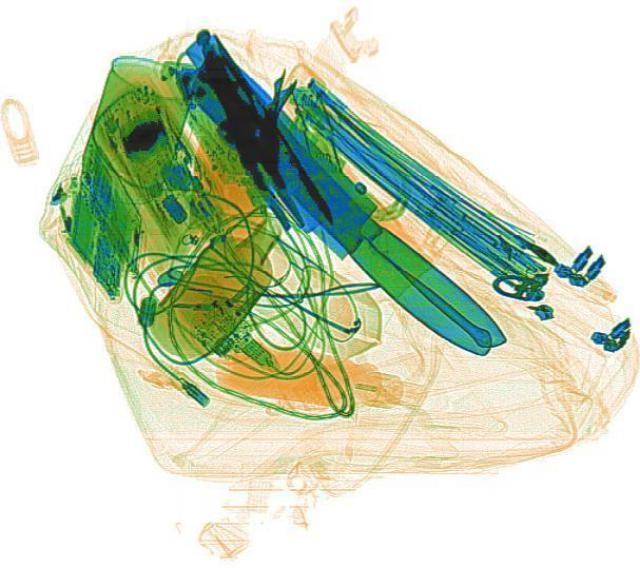Knife: (154, 51, 512, 370), (165, 49, 515, 366)
